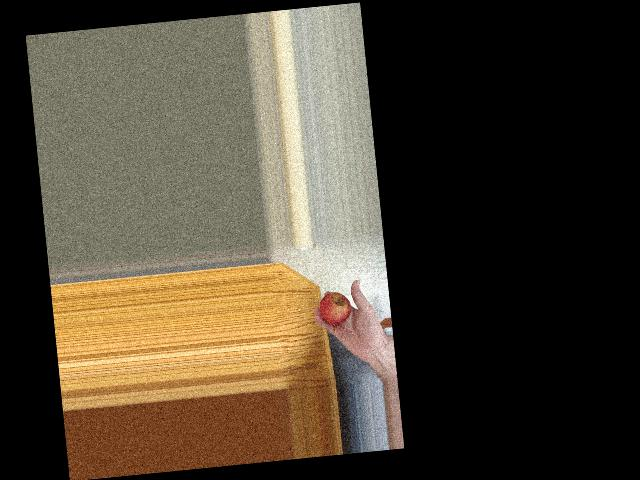apple: (316, 288, 353, 332)
